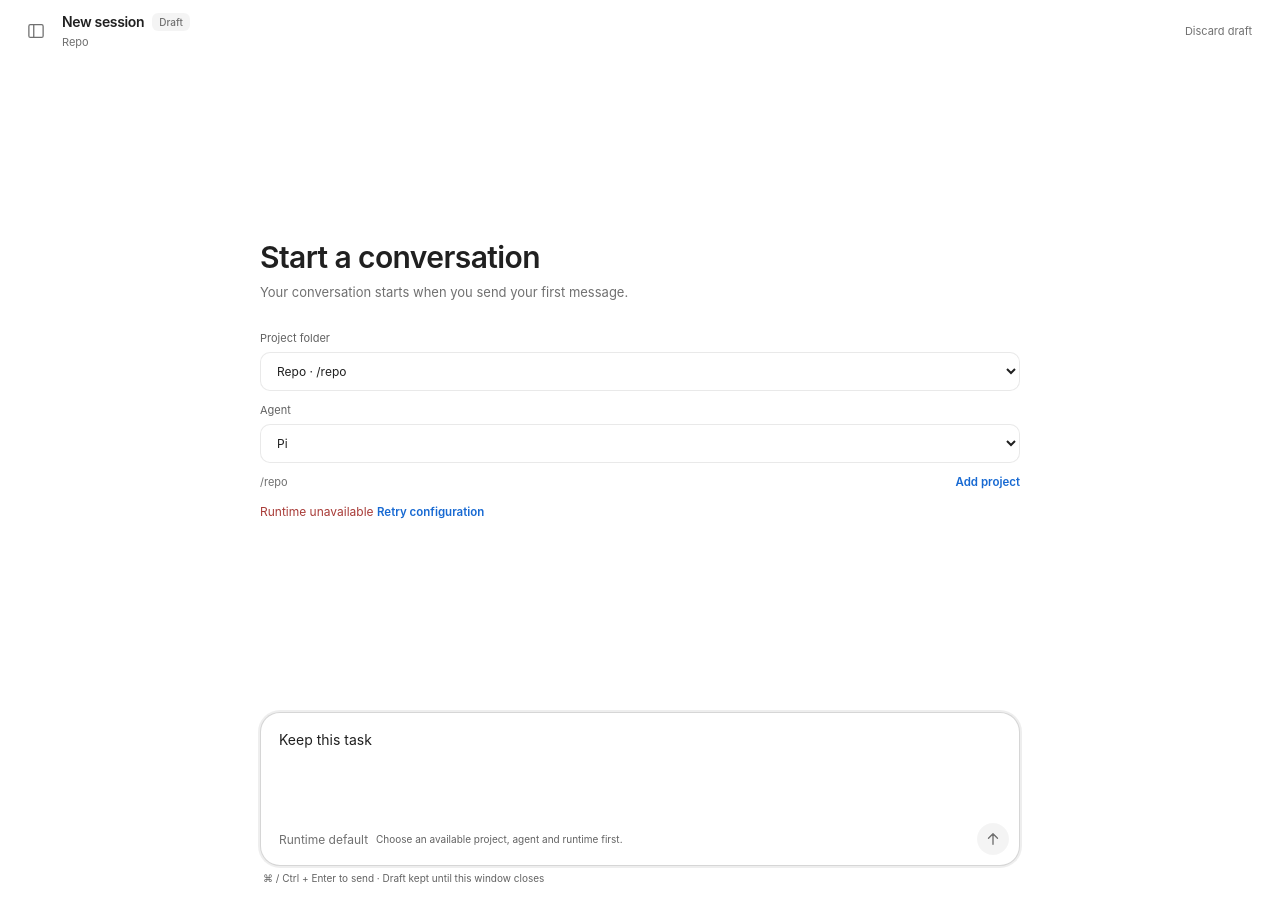
Test: draft conversation › retains text while configuration fails and retries without starting a session
Check: the text "Runtime unavailable" is shown, box [260,504,374,518]
Check: the button named "Send" is disabled, box [977,823,1009,855]
What coordinates should you click on to do the following:
click the button "Retry configuration"
I would click on:
 (431, 512)
Its box is [377,500,484,523].
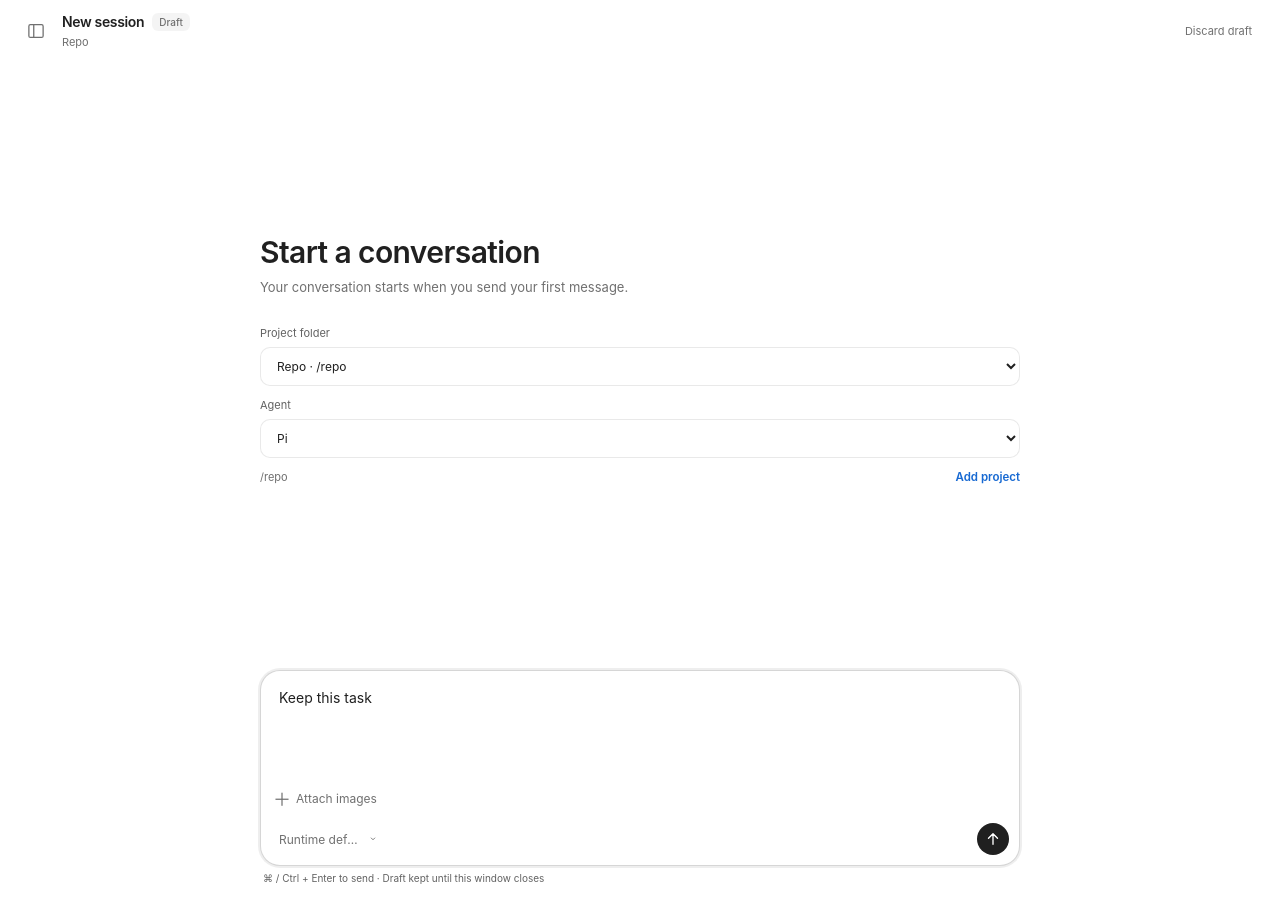
Check: the text box named "First message" holds "Keep this task", box [261,671,1019,781]
Check: the button named "Send" is enabled, box [977,823,1009,855]
